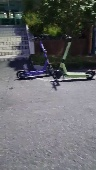beam: (15, 36, 57, 81)
gcooter: (52, 35, 95, 83)
